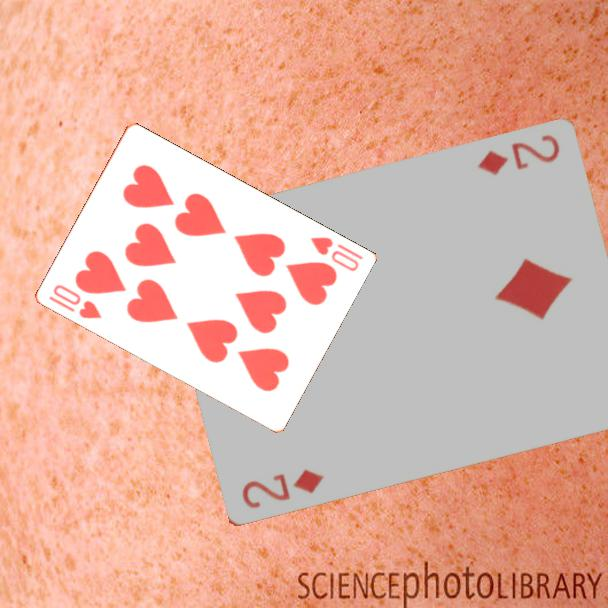d02: (474, 131, 562, 179), (238, 466, 326, 512)
h10: (307, 233, 366, 275), (45, 281, 104, 322)
